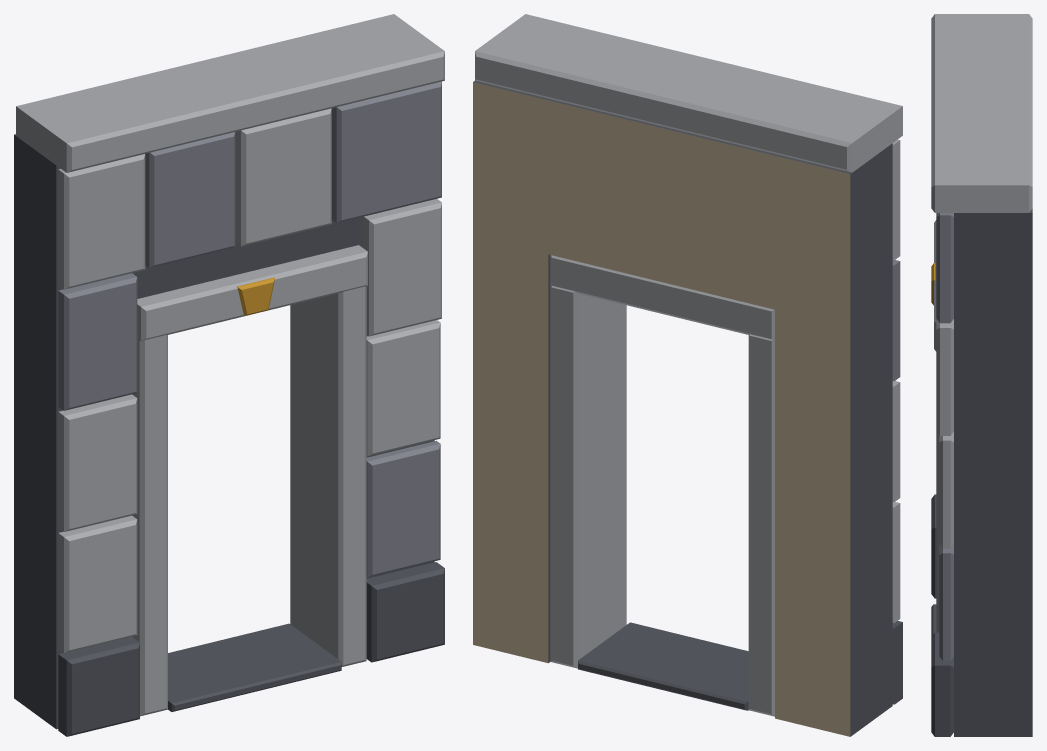
The model's file is WallDoor_11.glb.
3 views of the same model, side by side, from view 1: azimuth 30°, elevation 25°; view 2: azimuth 150°, elevation 25°; view 3: azimuth 270°, elevation 25° (orthographic). The views are drawn at different scales.
Visible parts, largest first — view 1: WallDoor_11; view 2: WallDoor_11; view 3: WallDoor_11.
Part boxes in pixels (bbox=[...]): WallDoor_11: bbox=[14, 14, 444, 736]; WallDoor_11: bbox=[473, 14, 902, 736]; WallDoor_11: bbox=[931, 14, 1032, 736].
Size of the model in its own units: 8 by 12 by 2.
